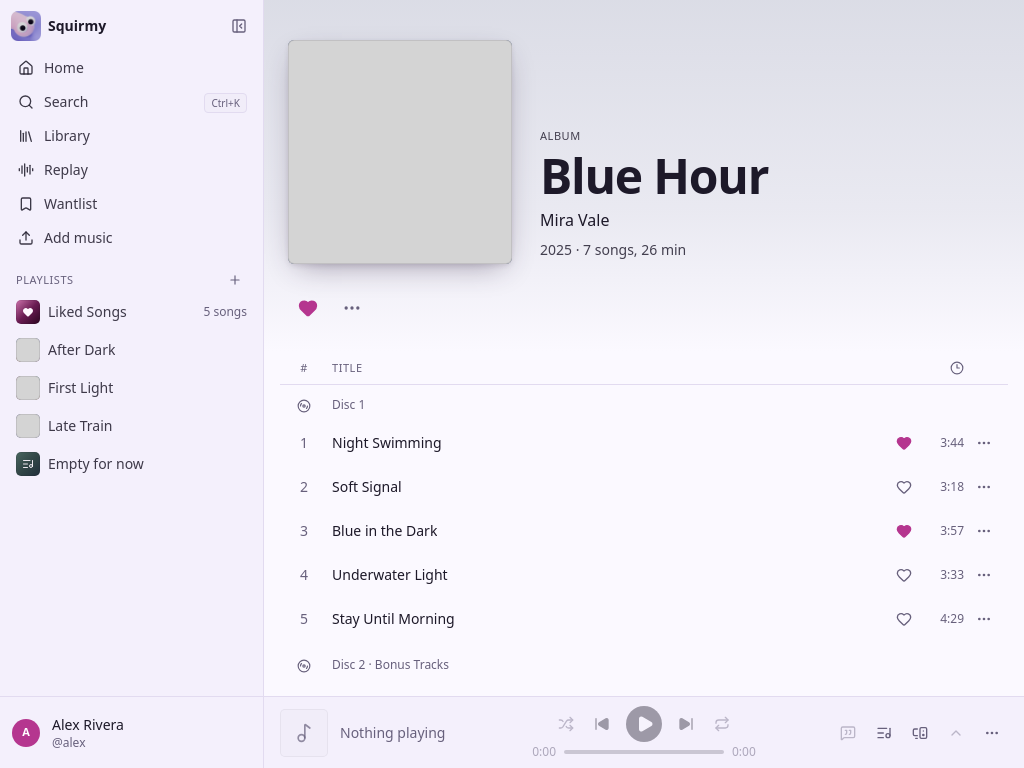
Scenario: library hygiene screens › opens tag editing from an admin album menu and sends only changed fields for writable files
Later steps or results of the test are not shown.
Click the button named "More options" at (352, 308), box [332,288,372,328]
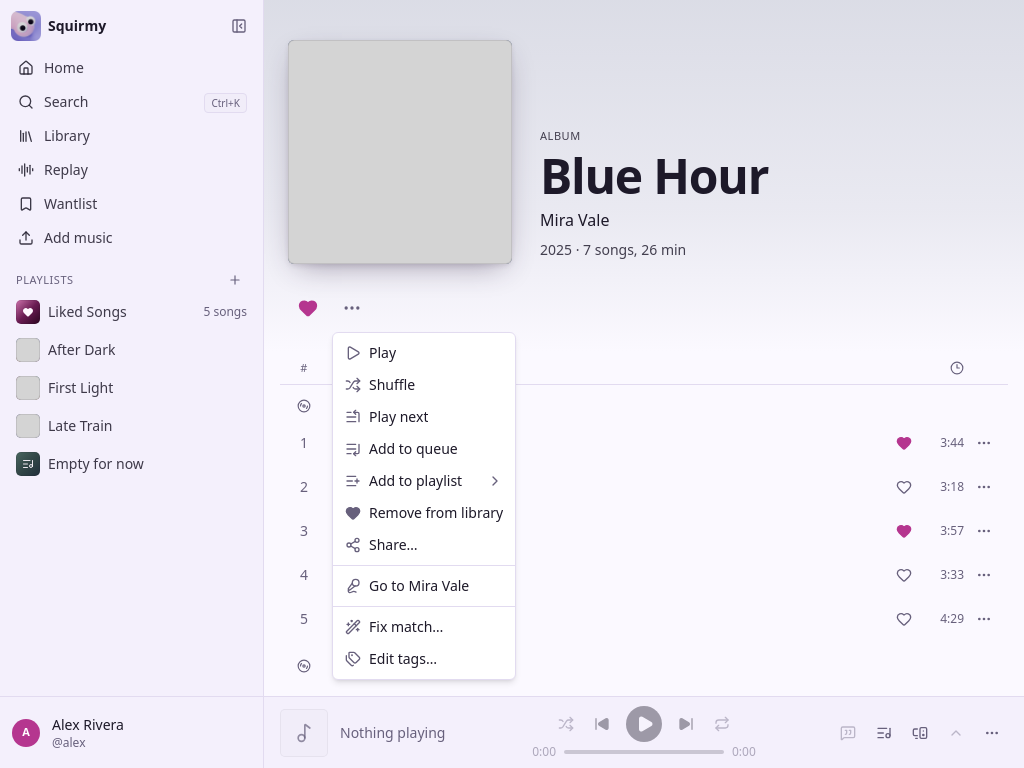
Click the menu item "Edit tags…" at (391, 658), box [345,649,437,668]
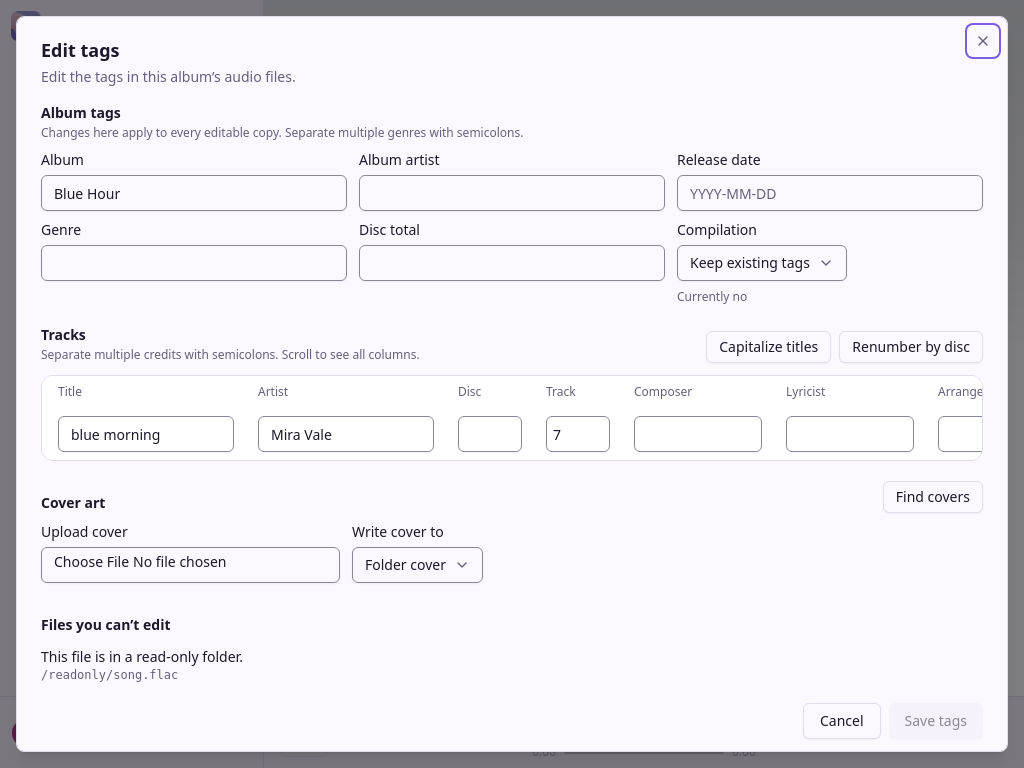
expect the list item "This file is in a read-only folder." is shown: met, box [41,647,243,666]
